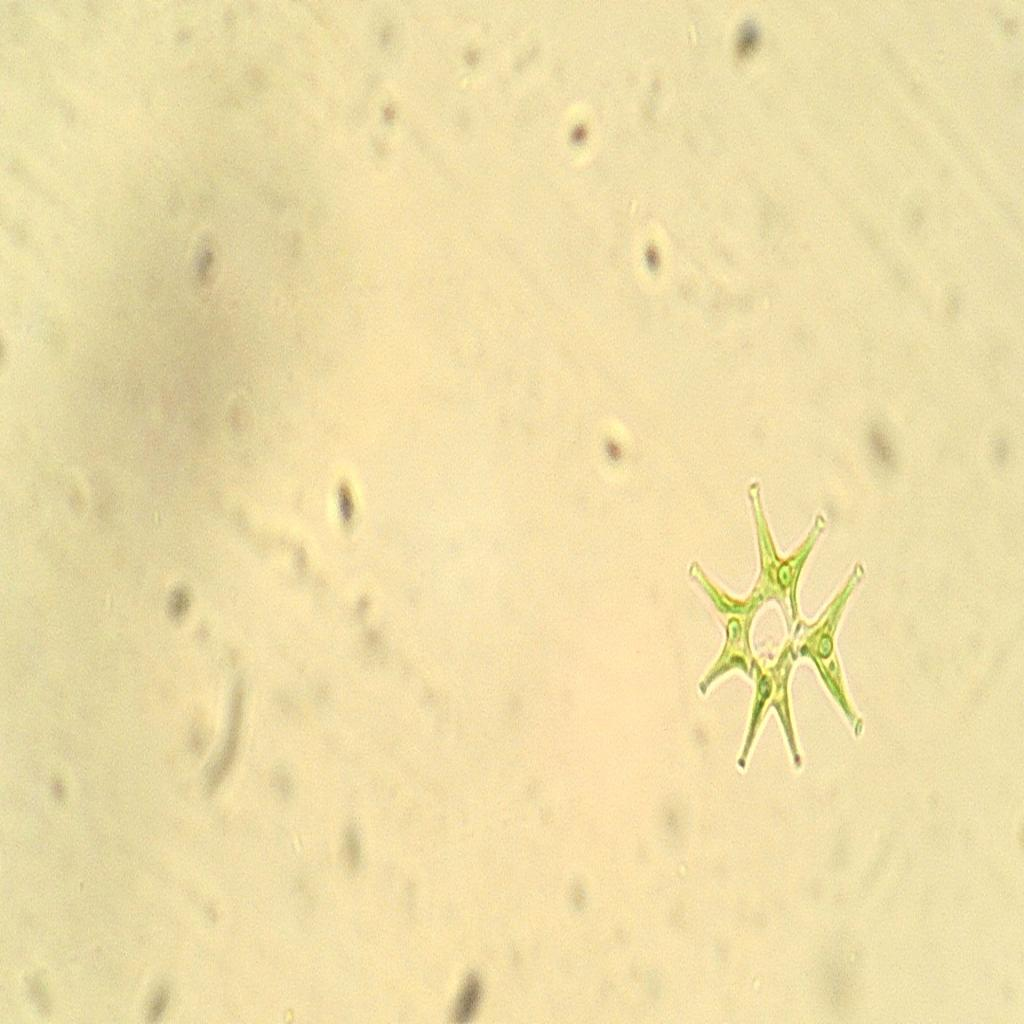Pediastrum_75FI: (683, 475, 880, 809)
